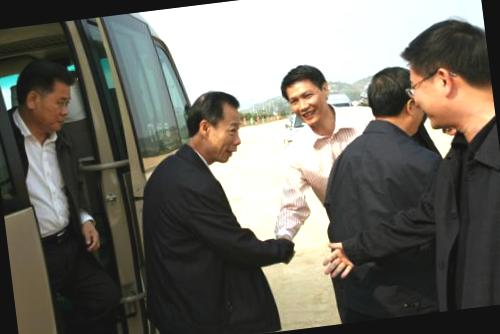no_helmet: (400, 15, 497, 144), (176, 85, 252, 173), (11, 52, 82, 137), (364, 63, 430, 141), (275, 59, 336, 130)
